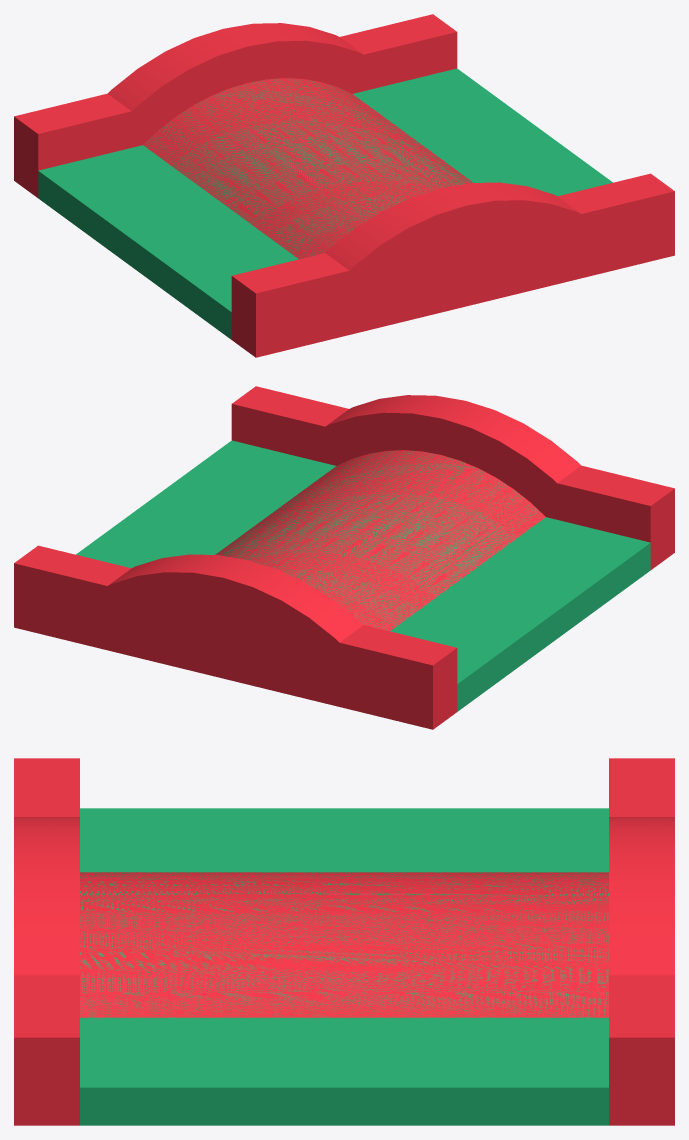
The model's file is hillRound.obj.
3 views of the same model, one above another, from view 1: azimuth 30°, elevation 25°; view 2: azimuth 150°, elevation 25°; view 3: azimuth 270°, elevation 25° (orthographic). The views are drawn at different scales.
Visible parts, largest first — view 1: hillRound; view 2: hillRound; view 3: hillRound.
Part boxes in pixels (left/top/right/bottom): hillRound: left=14, top=14, right=674, bottom=357; hillRound: left=14, top=386, right=674, bottom=729; hillRound: left=14, top=758, right=674, bottom=1125.
Bounding box in the file's own units: 0.9999 × 0.23 × 0.9999.
